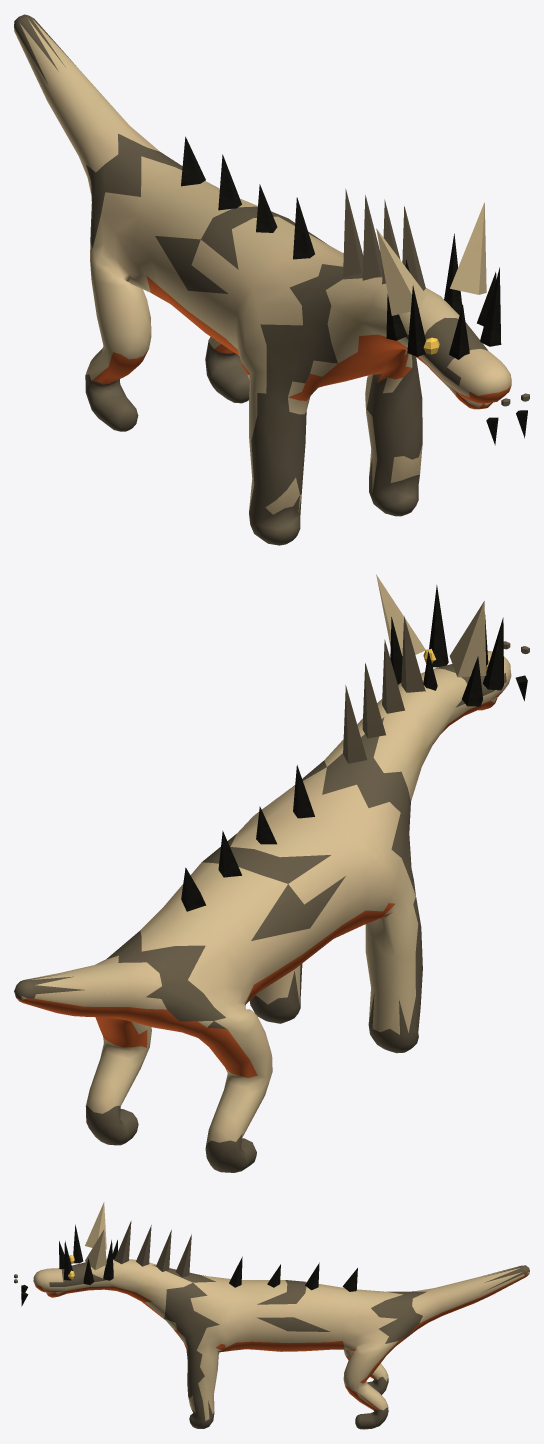
File: mon_sp_rift_fox_ember.glb
The picture shows the model from 3 angles, top to bottom: view 1: azimuth 30°, elevation 25°; view 2: azimuth 150°, elevation 25°; view 3: azimuth 270°, elevation 25°; orthographic projection. The views are drawn at different scales.
Visible parts, largest first — view 1: mon_sp_rift_fox_ember; view 2: mon_sp_rift_fox_ember; view 3: mon_sp_rift_fox_ember.
Part boxes in pixels (x1=…): mon_sp_rift_fox_ember: x1=14, y1=14, x2=529, y2=545; mon_sp_rift_fox_ember: x1=14, y1=574, x2=529, y2=1172; mon_sp_rift_fox_ember: x1=14, y1=1202, x2=529, y2=1429.
Size of the model in its own units: 1.2 by 2.66 by 6.27.
Materials: 5 (5 with a texture image).
